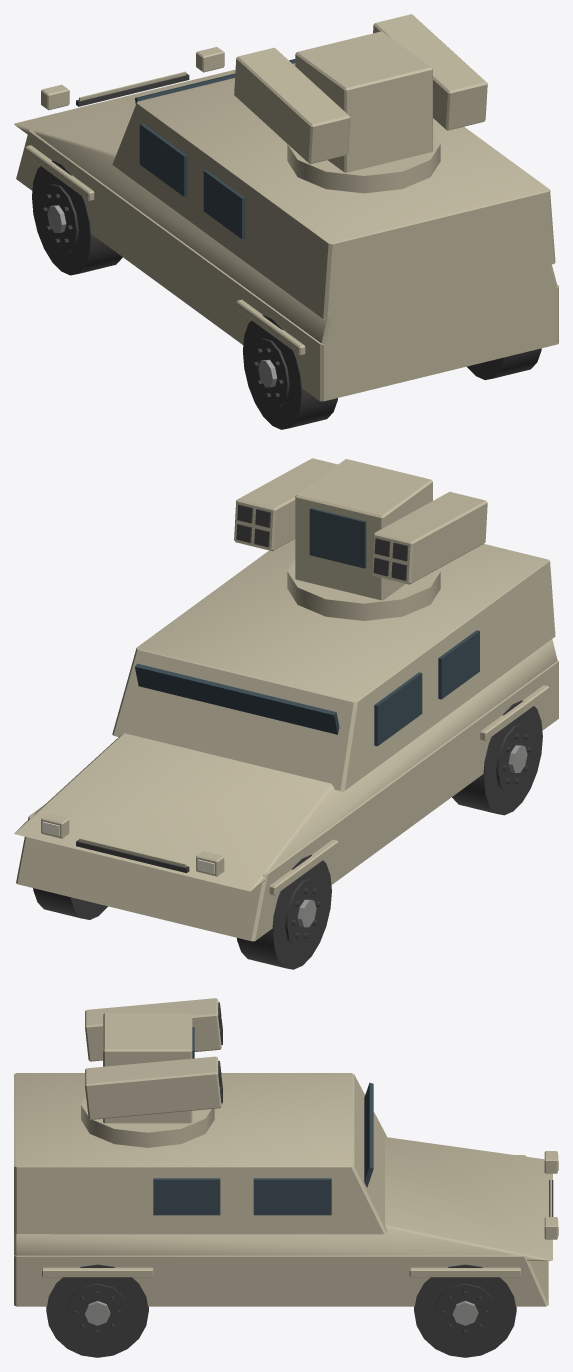
The model's file is usa_aa_avenger.glb.
The picture shows the model from 3 angles, top to bottom: view 1: azimuth 30°, elevation 25°; view 2: azimuth 150°, elevation 25°; view 3: azimuth 270°, elevation 25°; orthographic projection. The views are drawn at different scales.
Visible parts, largest first — view 1: body, turret, barrel, wheel_2, wheel_0, wheel_3; view 2: body, turret, barrel, wheel_0, wheel_2, wheel_1; view 3: body, barrel, turret, wheel_1, wheel_3.
Boxes of the visible parts, left/top/right/bottom form: body: left=14, top=47, right=558, bottom=401; turret: left=287, top=31, right=440, bottom=193; barrel: left=234, top=14, right=487, bottom=164; wheel_2: left=243, top=315, right=337, bottom=429; wheel_0: left=32, top=160, right=122, bottom=275; wheel_3: left=467, top=348, right=541, bottom=379; body: left=14, top=539, right=558, bottom=941; turret: left=287, top=459, right=440, bottom=620; barrel: left=234, top=458, right=487, bottom=584; wheel_0: left=237, top=855, right=331, bottom=969; wheel_2: left=452, top=700, right=542, bottom=815; wheel_1: left=33, top=888, right=107, bottom=919; body: left=14, top=1073, right=558, bottom=1306; barrel: left=85, top=998, right=222, bottom=1119; turret: left=81, top=1013, right=214, bottom=1147; wheel_1: left=414, top=1264, right=516, bottom=1357; wheel_3: left=46, top=1264, right=148, bottom=1357.
Size of the model in its own units: 2.3 by 2.72 by 4.89.
